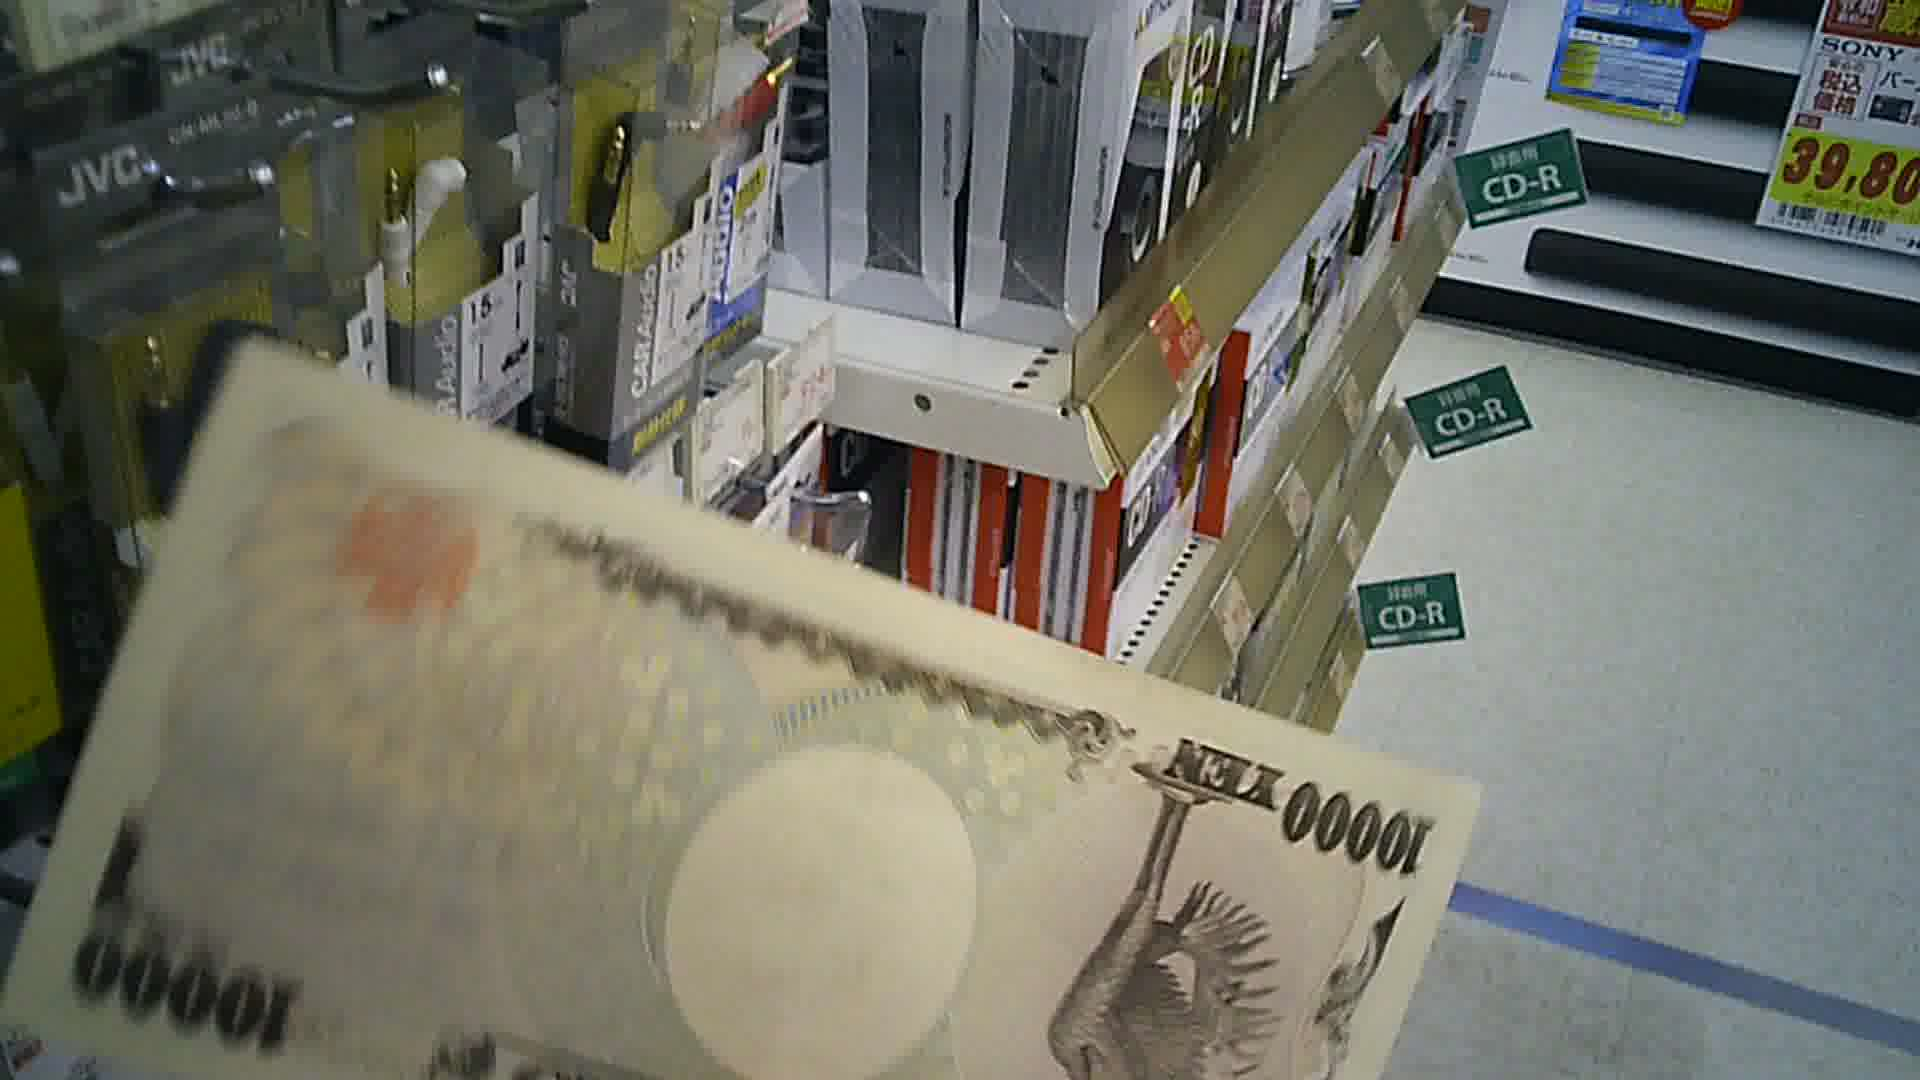10,000 Yen: (18, 286, 1457, 1079)
